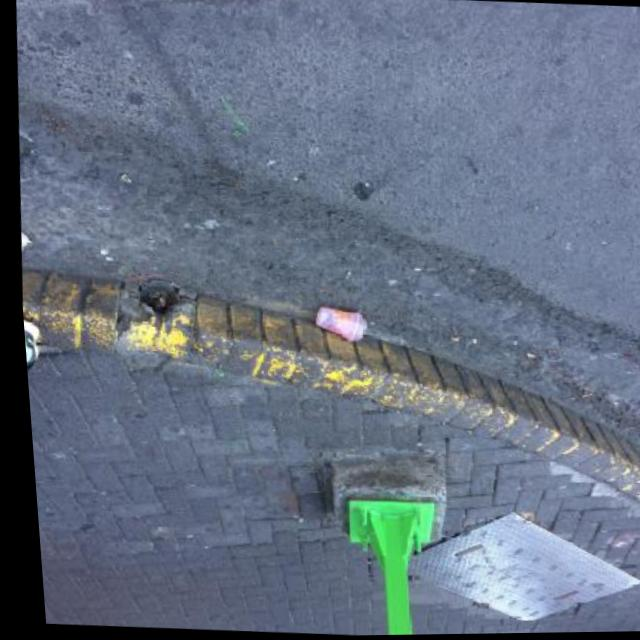plastic: (313, 305, 370, 344)
